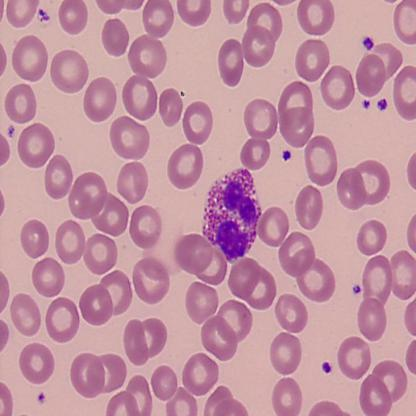Eosinophil: (203, 166, 264, 262)
